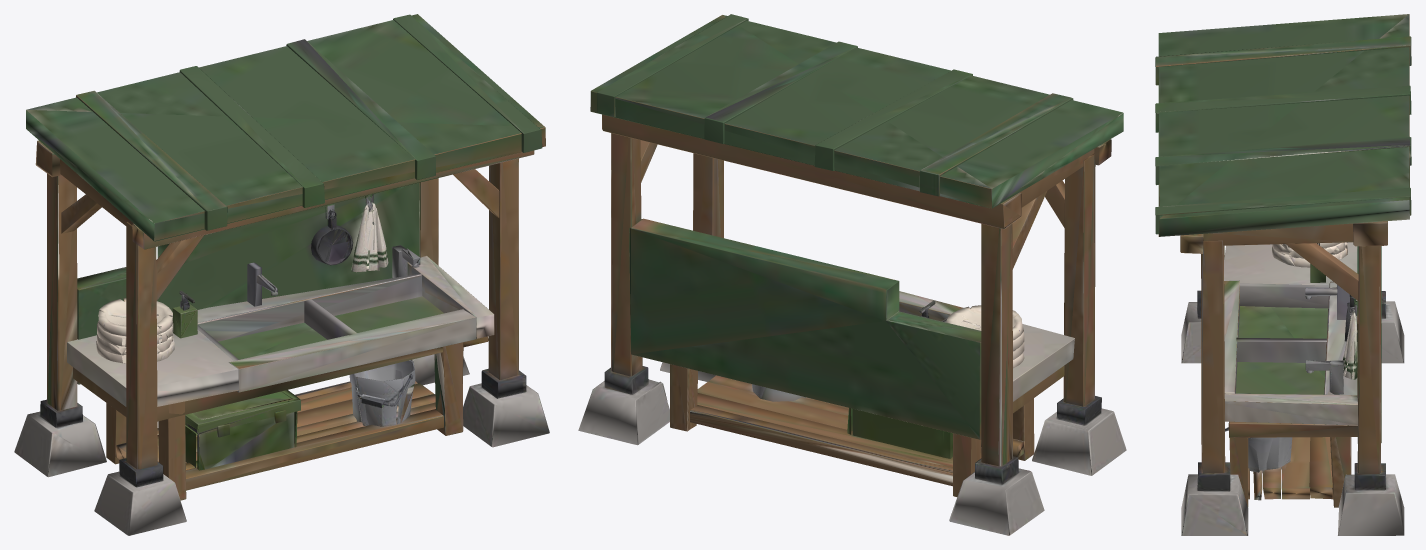
Rendered from grenade-wash-low.glb.
3 views of the same model, side by side, from view 1: azimuth 30°, elevation 25°; view 2: azimuth 150°, elevation 25°; view 3: azimuth 270°, elevation 25° (orthographic). The views are drawn at different scales.
Size of the model in its own units: 0.9575 by 0.7388 by 0.5156.
1 material, 1 textured.
